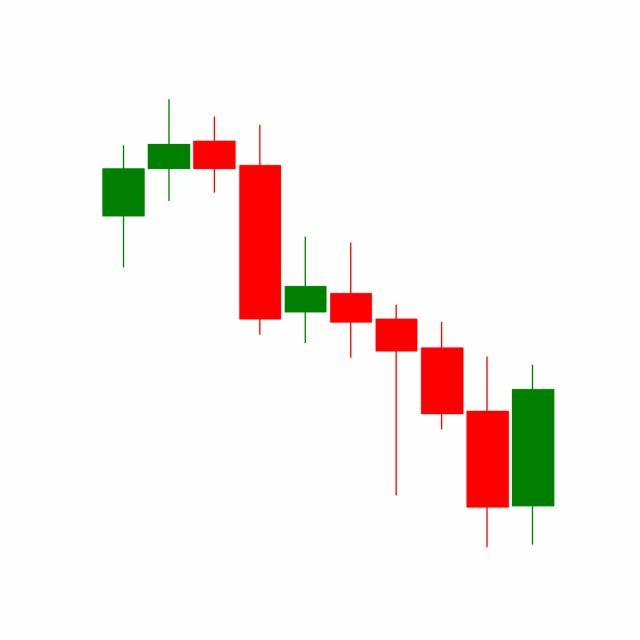Hikkake Pattern: (283, 233, 512, 548)
